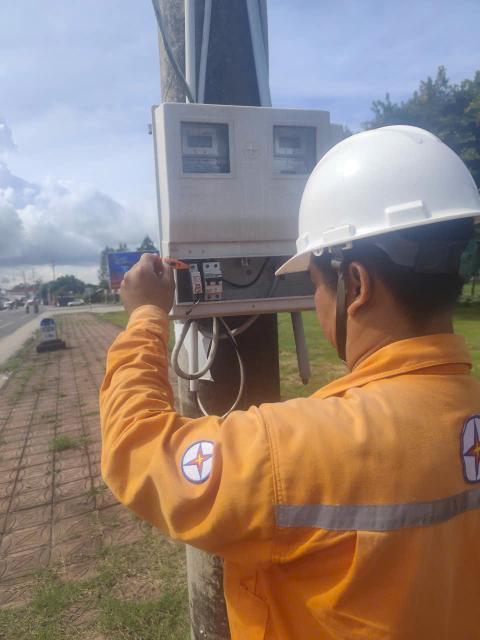helmet: (280, 128, 480, 244)
